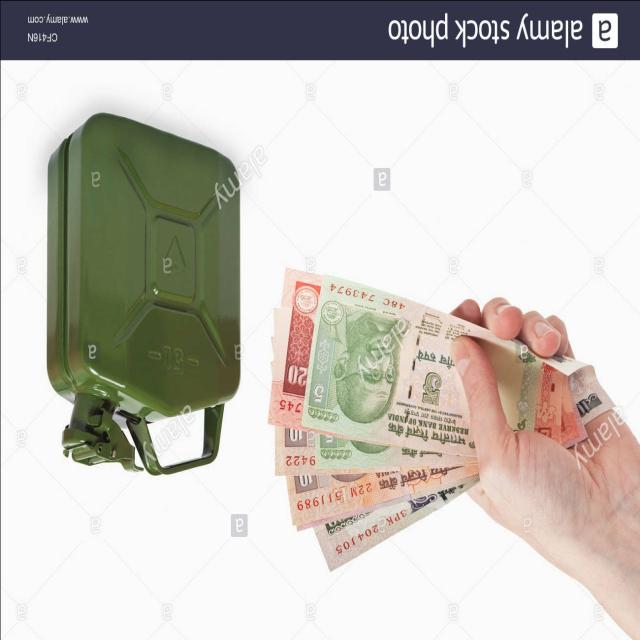5IndianRupees: (304, 292, 512, 426)
